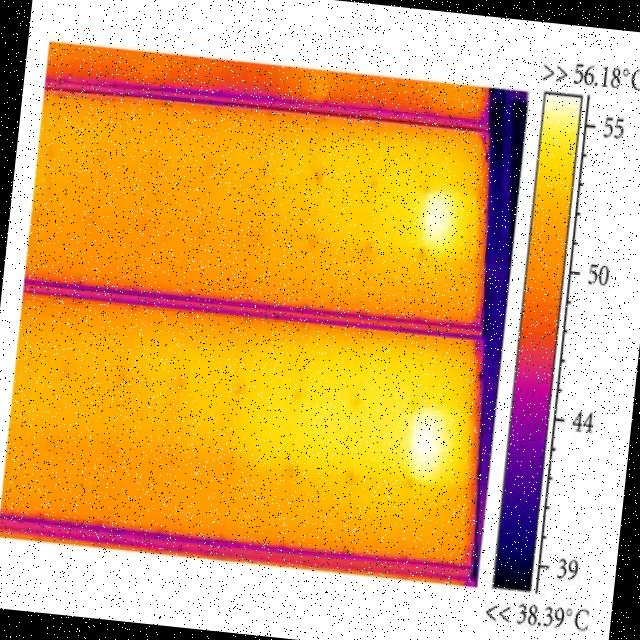Hotspot: (403, 405, 453, 485), (419, 187, 455, 255)
